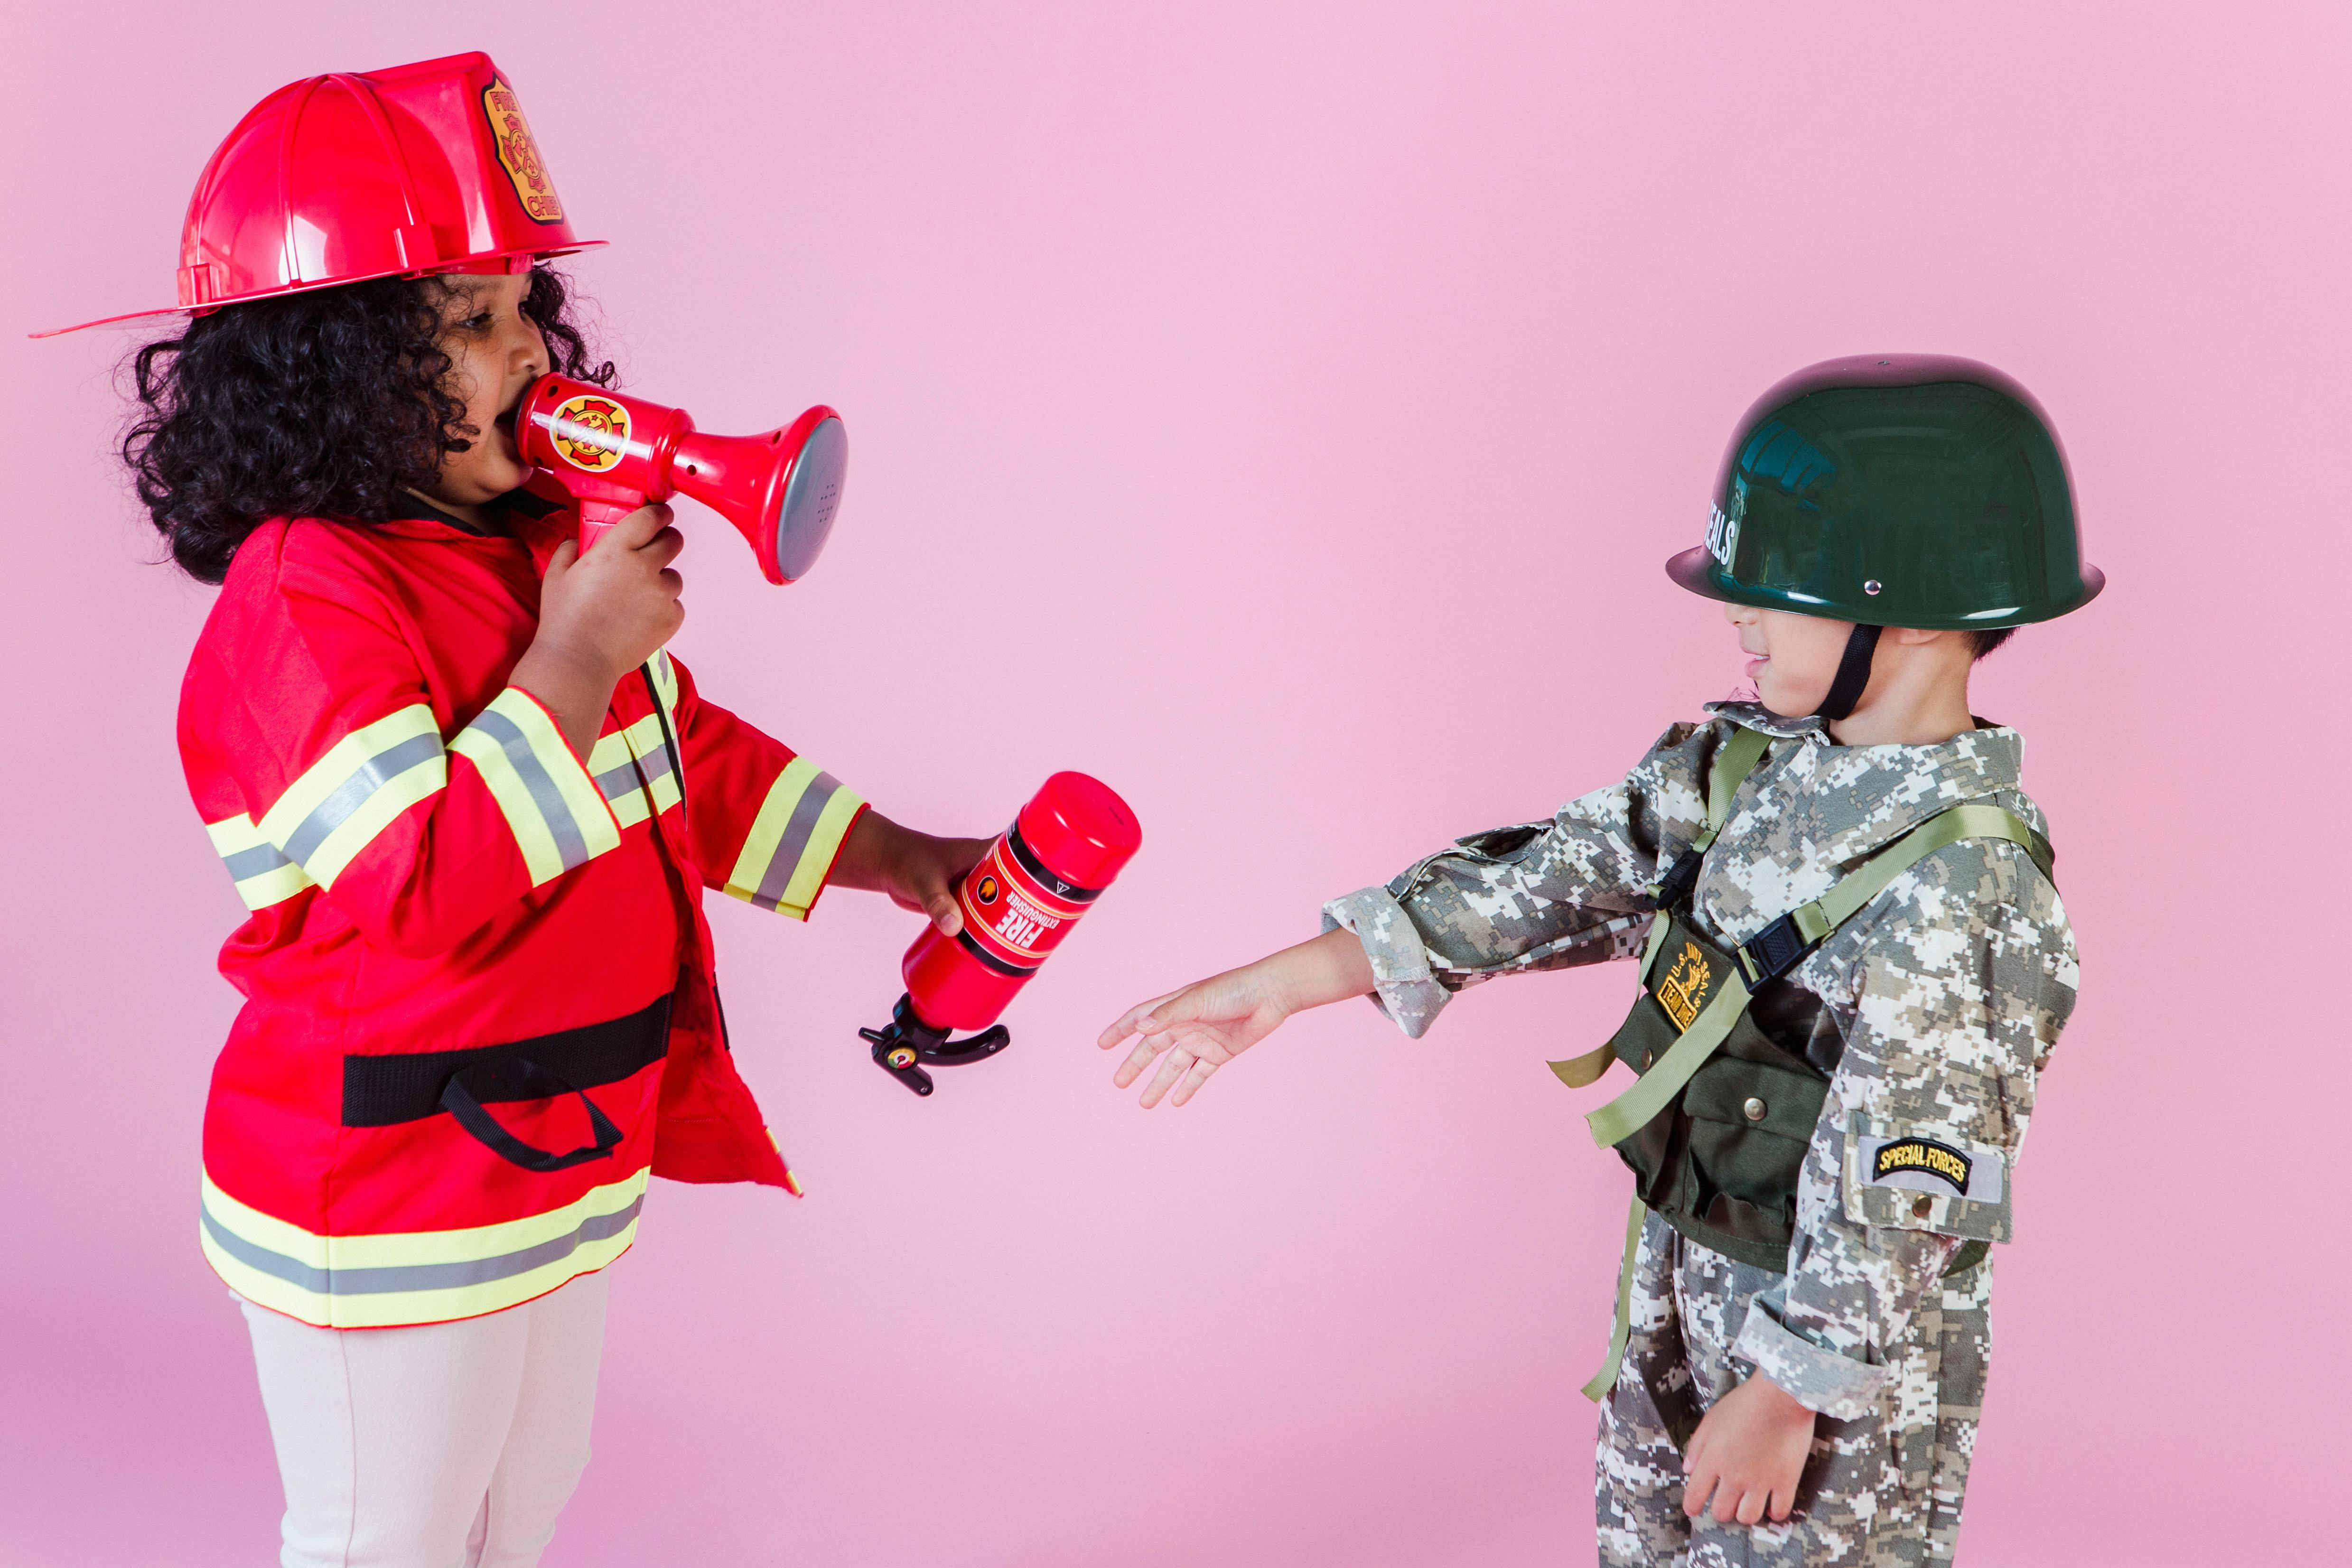extintor: (852, 765, 1137, 1102)
